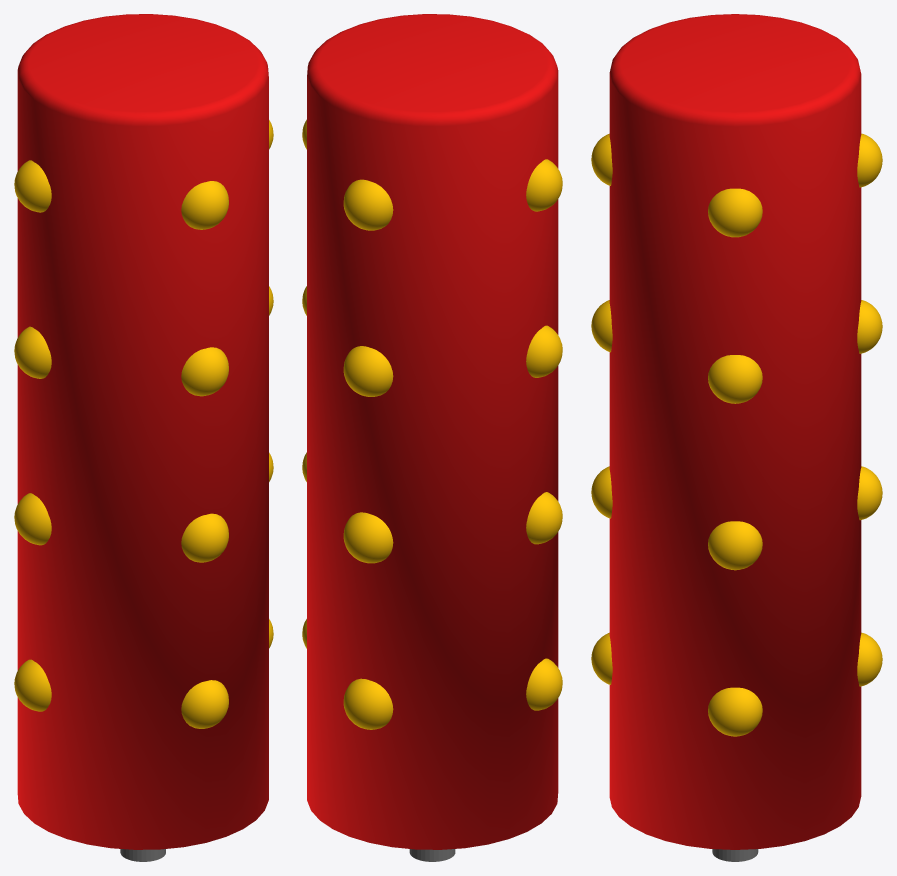
Rendered from trap_vertical.fbx.
3 views of the same model, side by side, from view 1: azimuth 30°, elevation 25°; view 2: azimuth 150°, elevation 25°; view 3: azimuth 270°, elevation 25° (orthographic).
Parts seen in each view (by area): view 1: dikey tuzak; view 2: dikey tuzak; view 3: dikey tuzak.
Part boxes in pixels (x1,y1,x2,y2): dikey tuzak: (14, 14, 273, 861); dikey tuzak: (302, 14, 562, 861); dikey tuzak: (591, 14, 882, 861).
Bounding box in the file's own units: 0.5393 × 1.61 × 0.5389.
